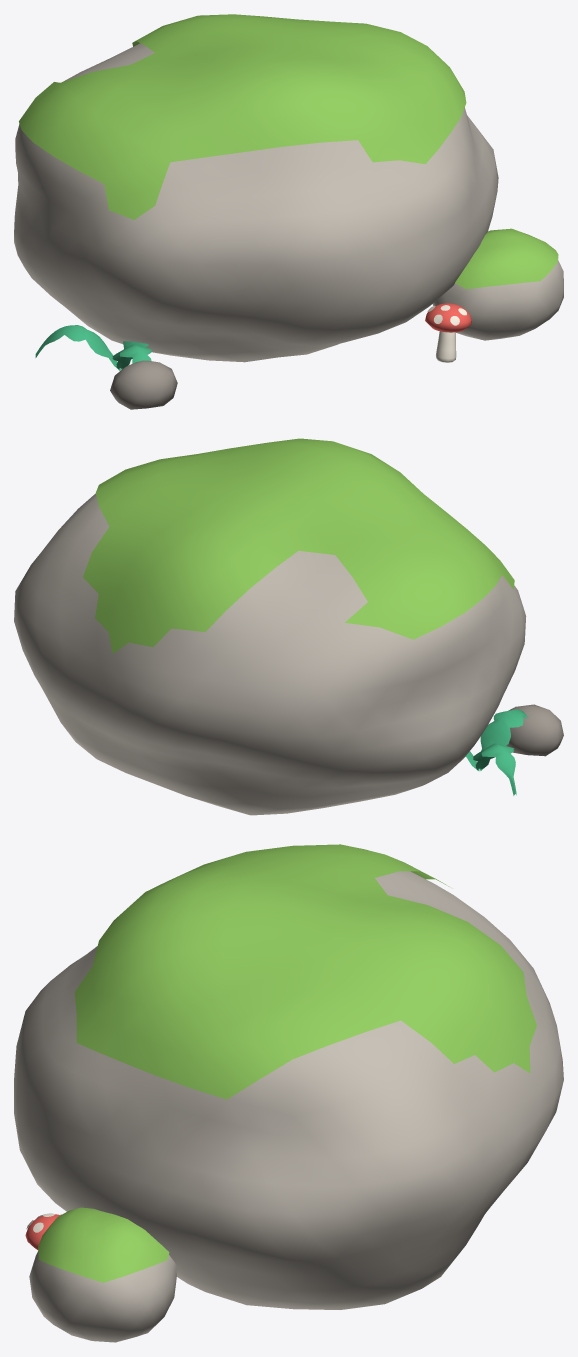
The model's file is prop_moss_rock.glb.
The picture shows the model from 3 angles, top to bottom: view 1: azimuth 30°, elevation 25°; view 2: azimuth 150°, elevation 25°; view 3: azimuth 270°, elevation 25°; orthographic projection. The views are drawn at different scales.
Visible parts, largest first — view 1: prop_moss_rock; view 2: prop_moss_rock; view 3: prop_moss_rock.
Boxes of the visible parts, x1,y1,x2,y2 form: prop_moss_rock: [14, 14, 563, 409]; prop_moss_rock: [14, 438, 563, 815]; prop_moss_rock: [14, 844, 563, 1342].
Size of the model in its own units: 1.98 by 1.13 by 1.71.
